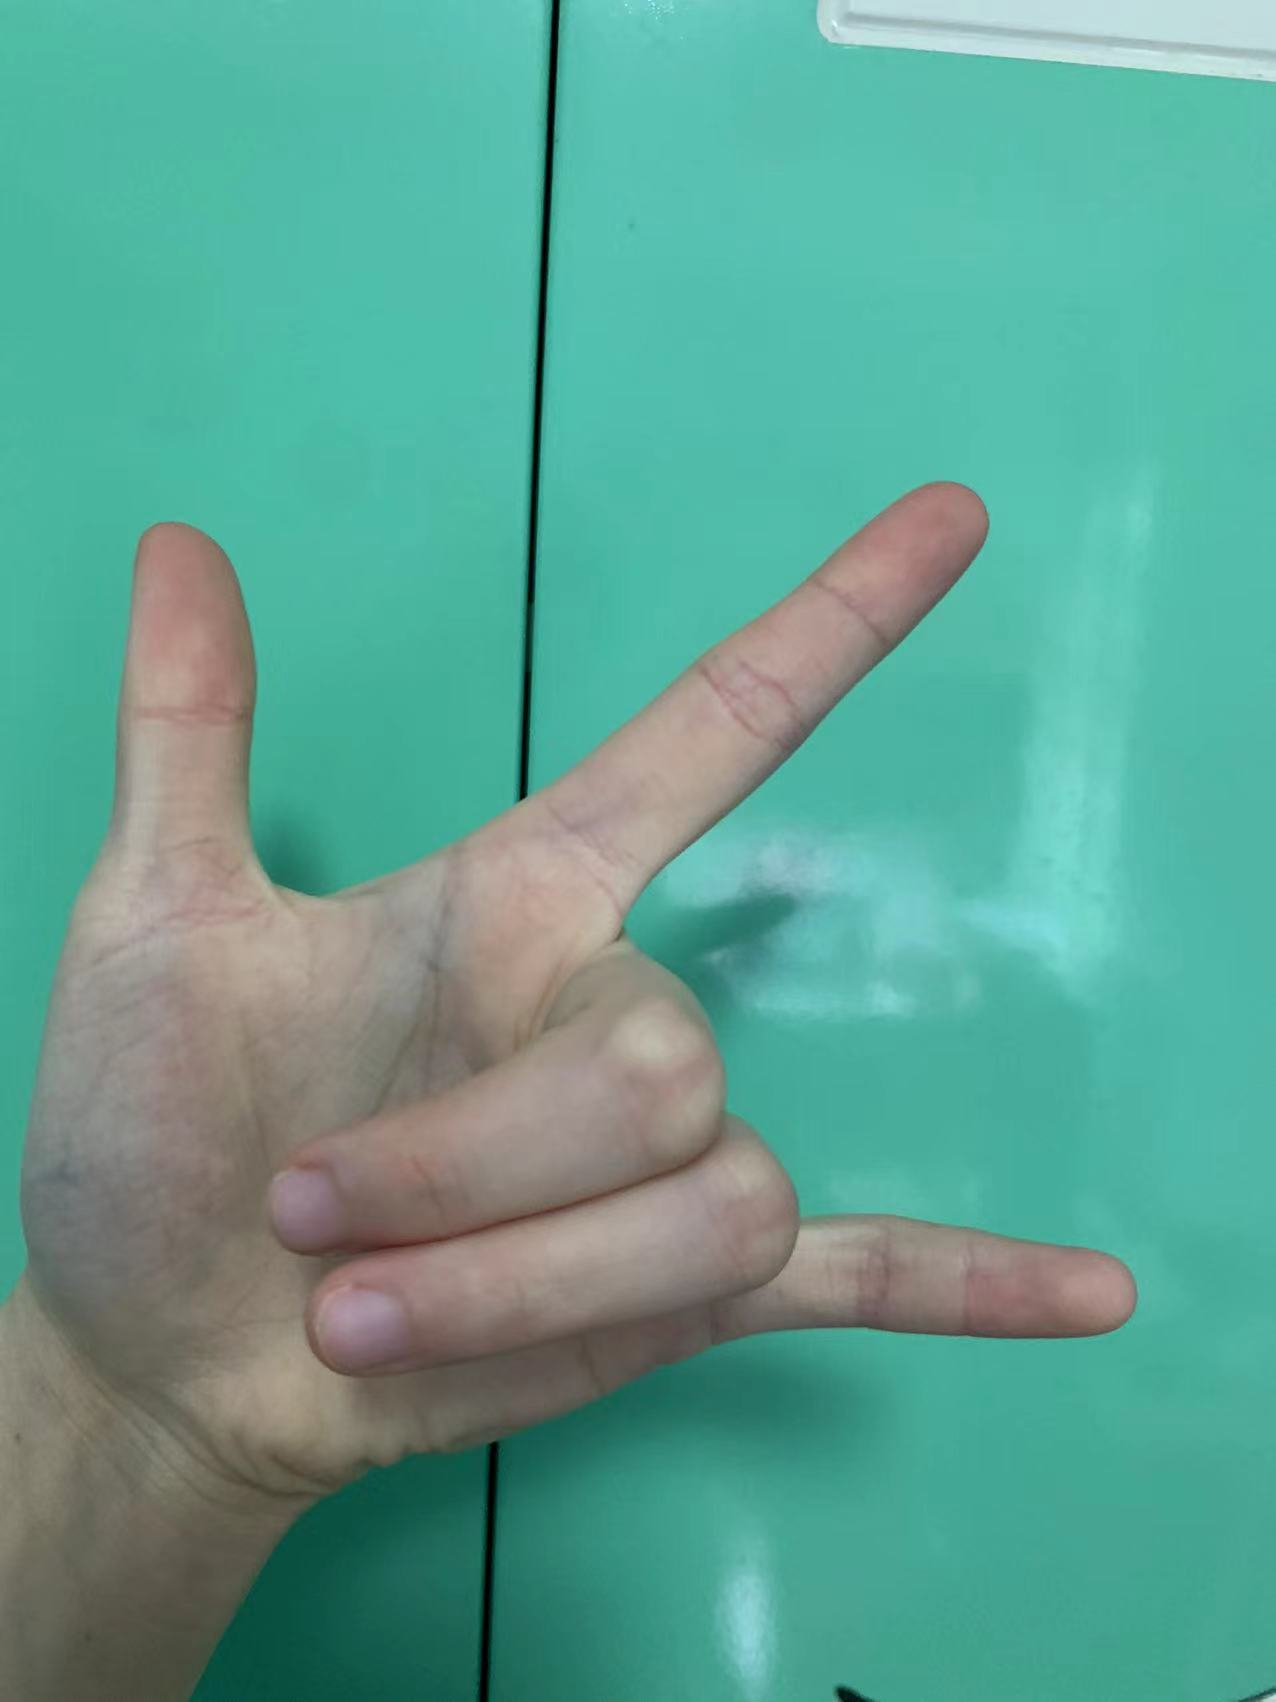back: (27, 458, 1141, 1478)
